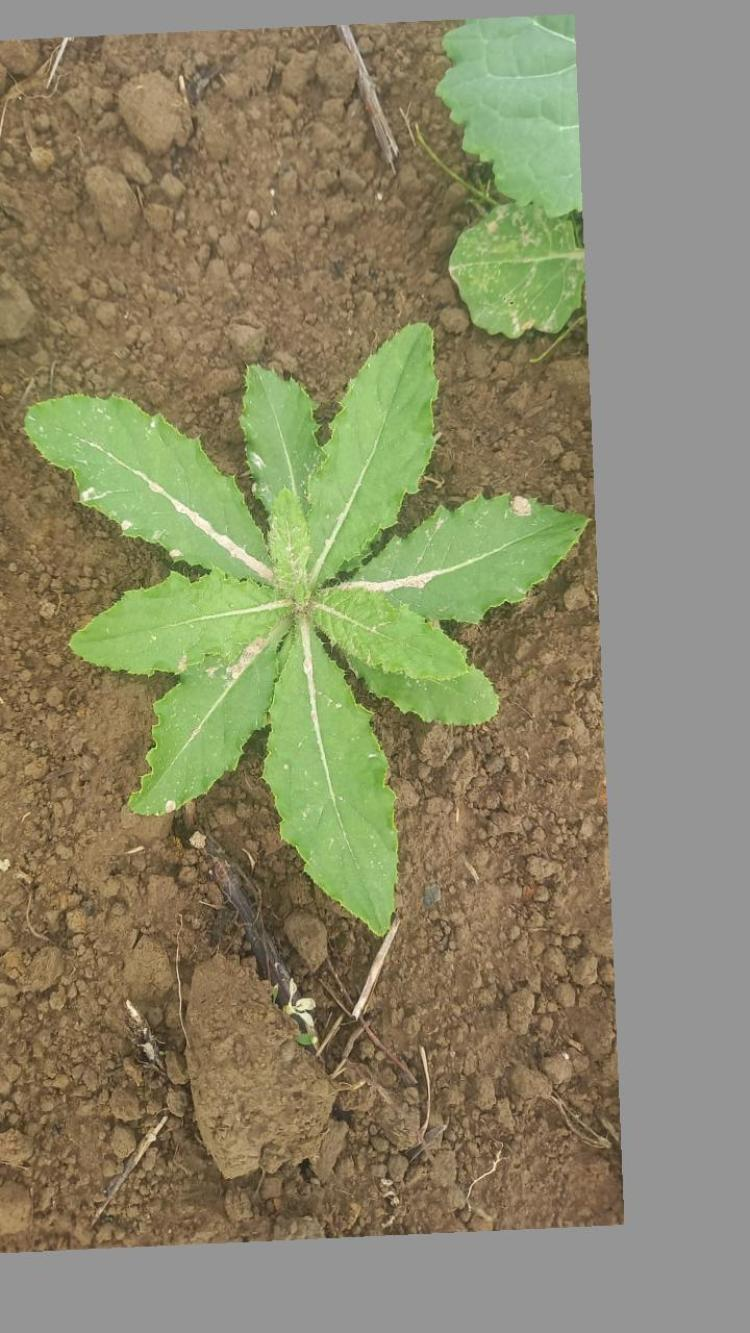osot: (27, 314, 594, 929)
